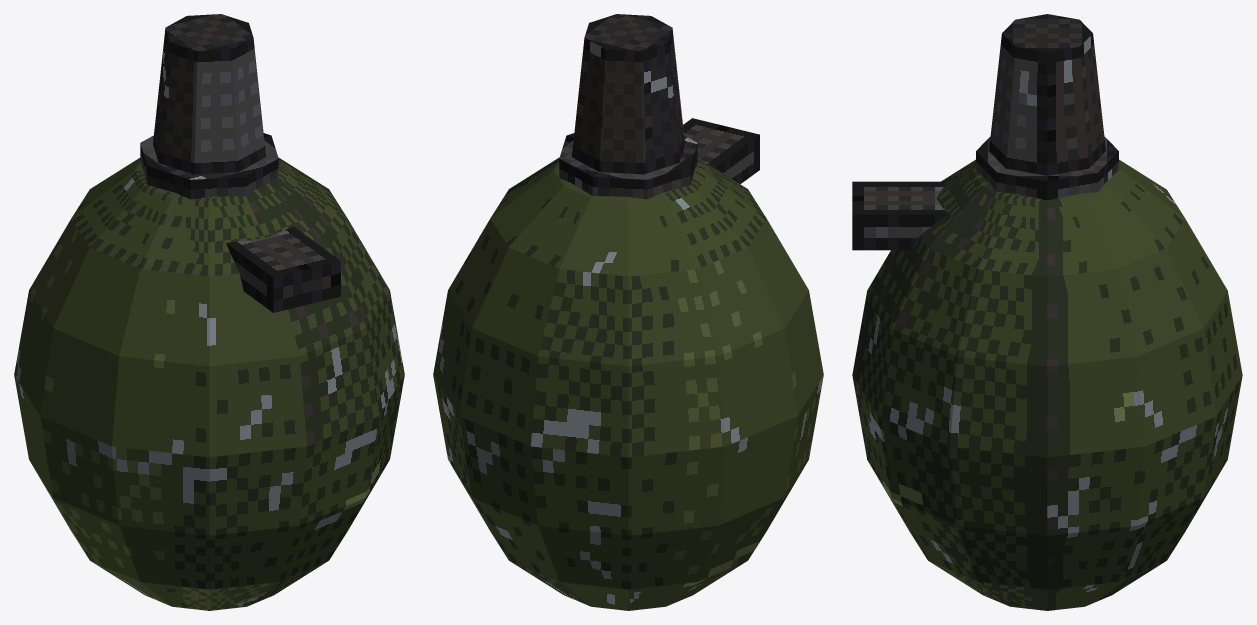
Rendered from SM_Grenade_01.glb.
3 renders of one model, left to right at view 1: azimuth 30°, elevation 25°; view 2: azimuth 150°, elevation 25°; view 3: azimuth 270°, elevation 25°, orthographic.
Parts seen in each view (by area): view 1: SM_Grenade_01; view 2: SM_Grenade_01; view 3: SM_Grenade_01.
Part boxes in pixels (x1=…): SM_Grenade_01: x1=14, y1=14, x2=404, y2=610; SM_Grenade_01: x1=433, y1=14, x2=823, y2=610; SM_Grenade_01: x1=852, y1=14, x2=1242, y2=610.
Bounding box in the file's own units: 0.06 × 0.0955 × 0.06.
1 material, 1 textured.
